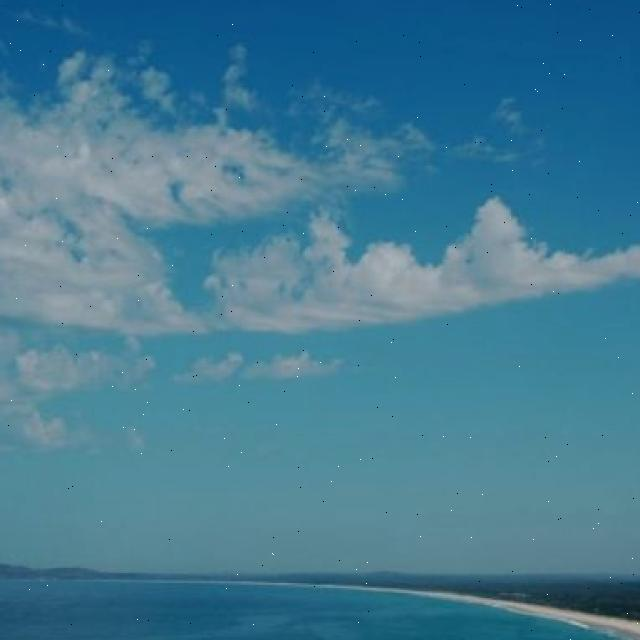Ac: (1, 33, 640, 361)
